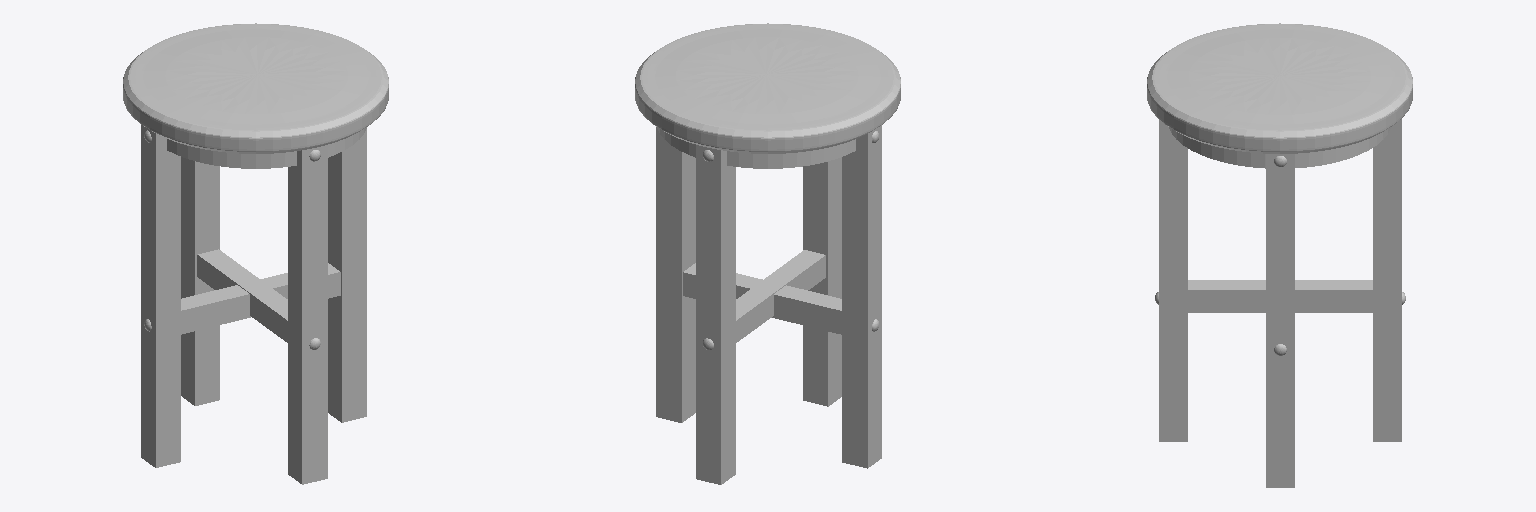
Rendered from stool.obj.
3 views of the same model, side by side, from view 1: azimuth 30°, elevation 25°; view 2: azimuth 150°, elevation 25°; view 3: azimuth 270°, elevation 25° (orthographic).
Parts seen in each view (by area): view 1: Leg_Cube.008, Top_of_stool_Cylinder.001, truss_b_Cube.009, Stoll_top_support_Cylinder.005; view 2: Leg_Cube.008, Top_of_stool_Cylinder.001, truss_b_Cube.009, Stoll_top_support_Cylinder.005; view 3: Top_of_stool_Cylinder.001, Leg_Cube.008, truss_b_Cube.009, Stoll_top_support_Cylinder.005.
Boxes of the visible parts, x1,y1,x2,y2 form: Leg_Cube.008: [141, 125, 366, 484]; Top_of_stool_Cylinder.001: [123, 23, 388, 153]; truss_b_Cube.009: [181, 249, 340, 342]; Stoll_top_support_Cylinder.005: [167, 127, 366, 168]; Leg_Cube.008: [656, 125, 881, 484]; Top_of_stool_Cylinder.001: [635, 23, 900, 153]; truss_b_Cube.009: [683, 250, 841, 342]; Stoll_top_support_Cylinder.005: [657, 127, 855, 168]; Top_of_stool_Cylinder.001: [1147, 23, 1412, 153]; Leg_Cube.008: [1159, 119, 1401, 487]; truss_b_Cube.009: [1188, 280, 1372, 312]; Stoll_top_support_Cylinder.005: [1169, 127, 1390, 168].
Bounding box in the file's own units: 2.57 × 3.84 × 2.57.